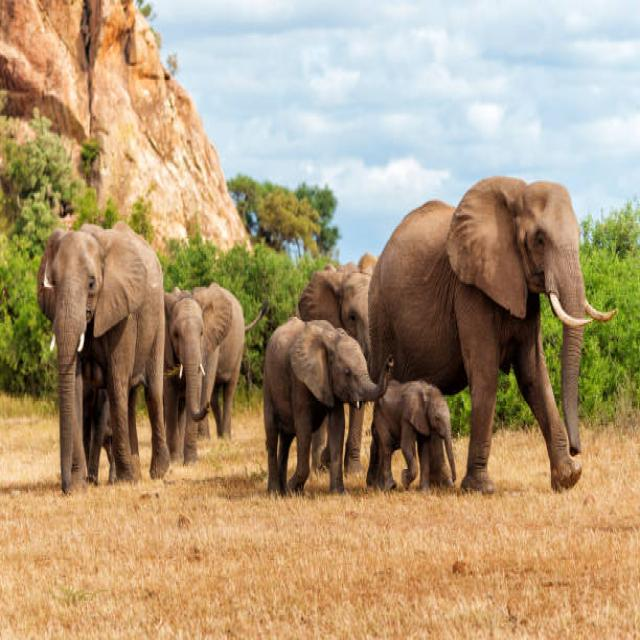Elephant: (346, 172, 595, 504), (13, 202, 171, 522), (152, 269, 272, 484), (255, 316, 395, 496), (371, 376, 452, 514)
